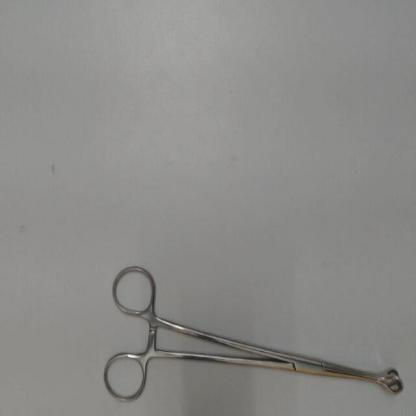8 Babcock Tissue Forceps: (98, 254, 408, 408)
